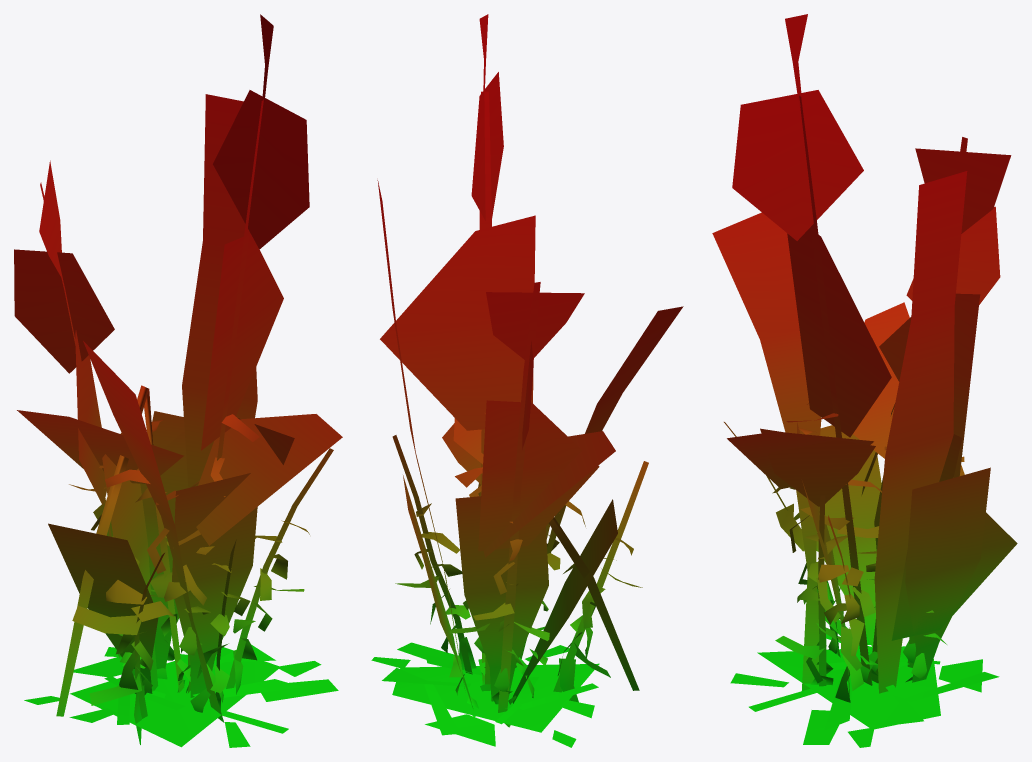
File: Willowherb_LOD3_Var1_tbfpbbhr.fbx
3 views of the same model, side by side, from view 1: azimuth 30°, elevation 25°; view 2: azimuth 150°, elevation 25°; view 3: azimuth 270°, elevation 25° (orthographic). The views are drawn at different scales.
Parts seen in each view (by area): view 1: _30fd_Var1_LOD3; view 2: _30fd_Var1_LOD3; view 3: _30fd_Var1_LOD3.
Boxes of the visible parts, x1,y1,x2,y2 form: _30fd_Var1_LOD3: (14,14,342,747); _30fd_Var1_LOD3: (371,14,683,747); _30fd_Var1_LOD3: (712,14,1017,747).
Bounding box in the file's own units: 11.29 × 27.9 × 10.55.
